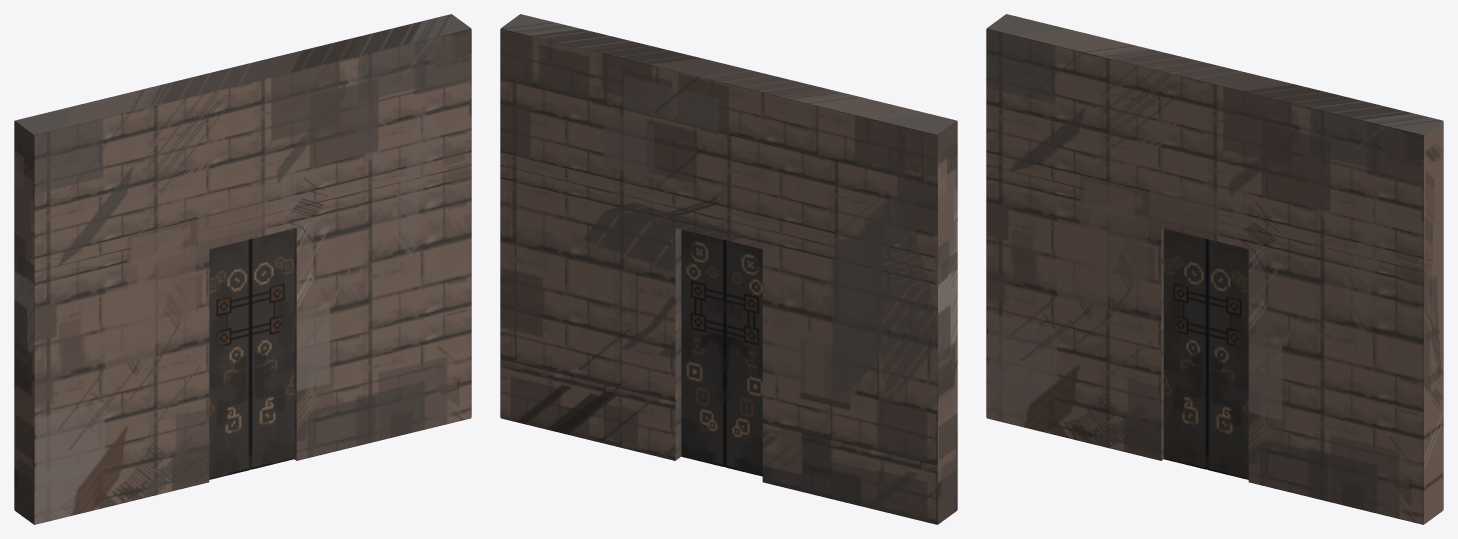
The model's file is FABRIC_AUTO.fbx.
3 views of the same model, side by side, from view 1: azimuth 30°, elevation 25°; view 2: azimuth 150°, elevation 25°; view 3: azimuth 330°, elevation 25° (orthographic).
Visible parts, largest first — view 1: cuboid, cuboid_1, cuboid_2; view 2: cuboid, cuboid_1, cuboid_2; view 3: cuboid, cuboid_2, cuboid_1.
Boxes of the visible parts, box(x1,y1,x2,y2) form: cuboid: box(14, 14, 471, 524); cuboid_1: box(250, 228, 294, 469); cuboid_2: box(209, 239, 250, 479); cuboid: box(500, 14, 957, 524); cuboid_1: box(675, 228, 724, 466); cuboid_2: box(725, 240, 762, 476); cuboid: box(986, 14, 1443, 524); cuboid_2: box(1161, 228, 1207, 469); cuboid_1: box(1207, 239, 1248, 479).
Bounding box in the file's own units: 338 × 288 × 26.56.
Materials: 2 (2 with a texture image).
